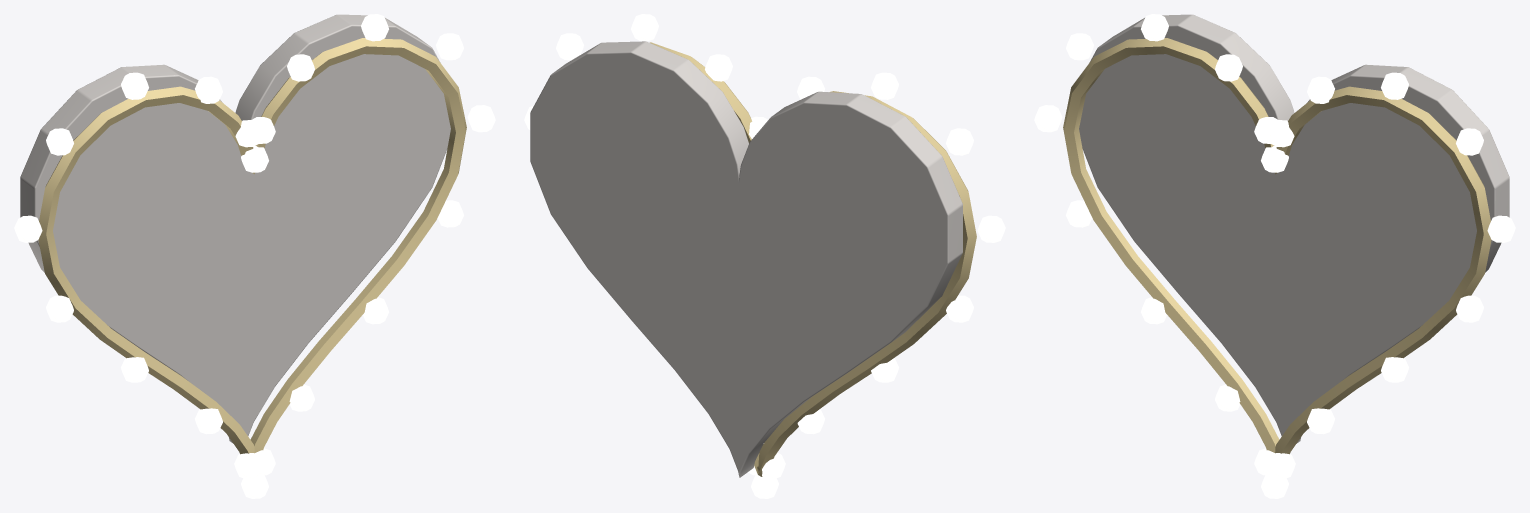
File: sign_marquee_heart.glb
The picture shows the model from 3 angles, left to right: view 1: azimuth 30°, elevation 25°; view 2: azimuth 150°, elevation 25°; view 3: azimuth 330°, elevation 25°; orthographic projection.
Visible parts, largest first — view 1: sign_marquee_heart; view 2: sign_marquee_heart; view 3: sign_marquee_heart.
Boxes of the visible parts, left/top/right/bottom form: sign_marquee_heart: left=14, top=14, right=495, bottom=498; sign_marquee_heart: left=524, top=14, right=1005, bottom=498; sign_marquee_heart: left=1034, top=14, right=1515, bottom=498.
Bounding box in the file's own units: 0.903 × 0.8201 × 0.109.
